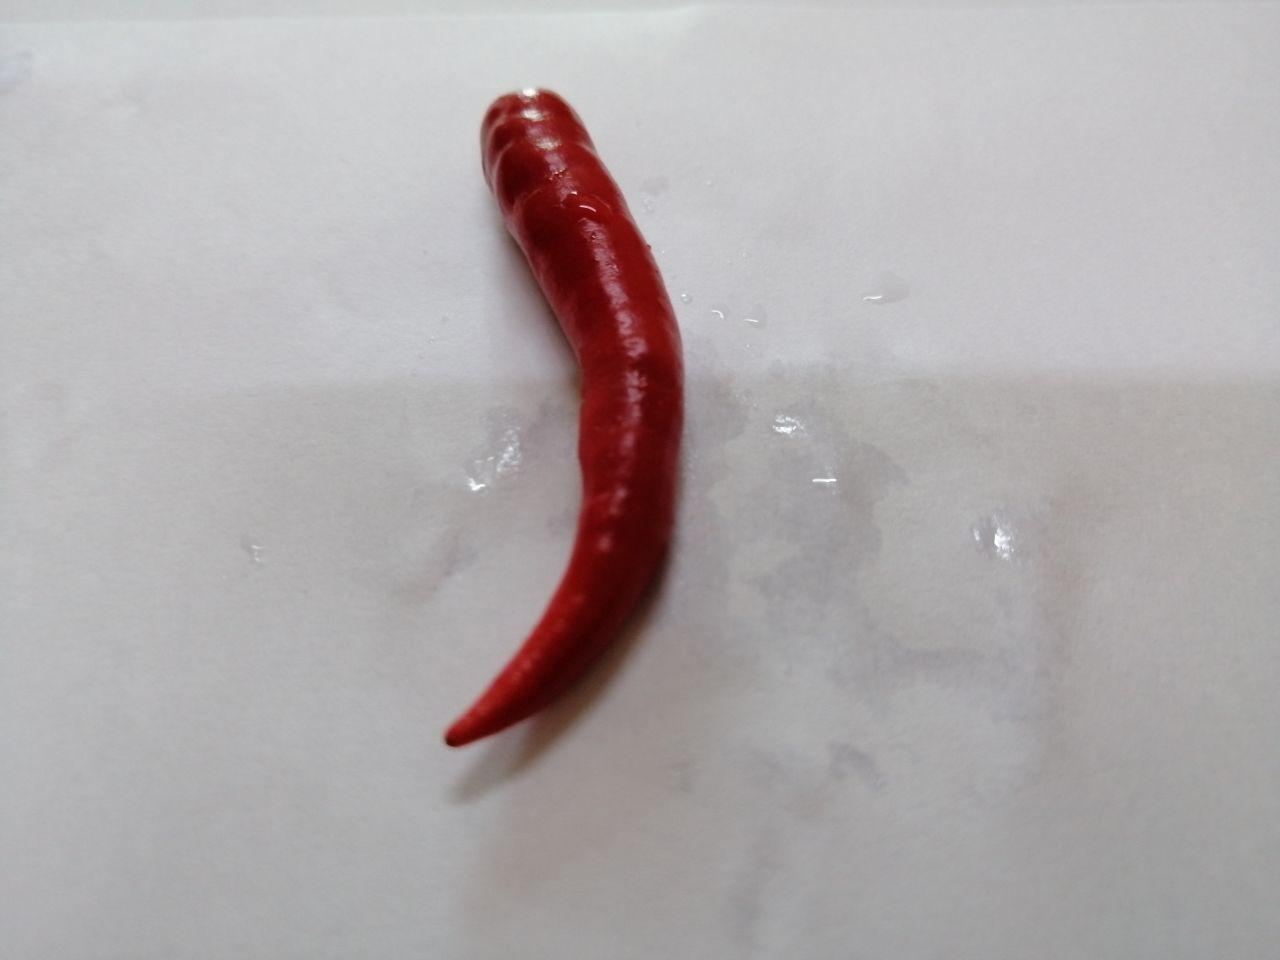lada merah: (402, 58, 709, 764)
